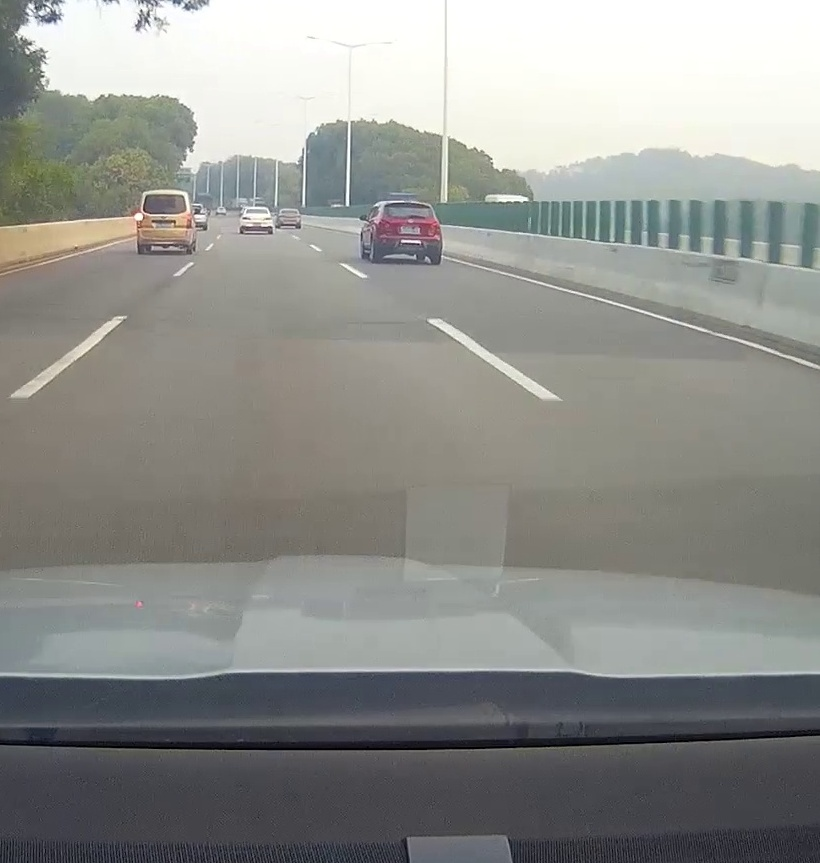L_light: (381, 219, 394, 236), (134, 213, 144, 221)
R_light: (426, 221, 438, 237), (182, 213, 192, 220)
T_light: (159, 195, 172, 197), (404, 204, 416, 206)
day-left: (133, 189, 194, 254)
day-no: (378, 200, 442, 263)
